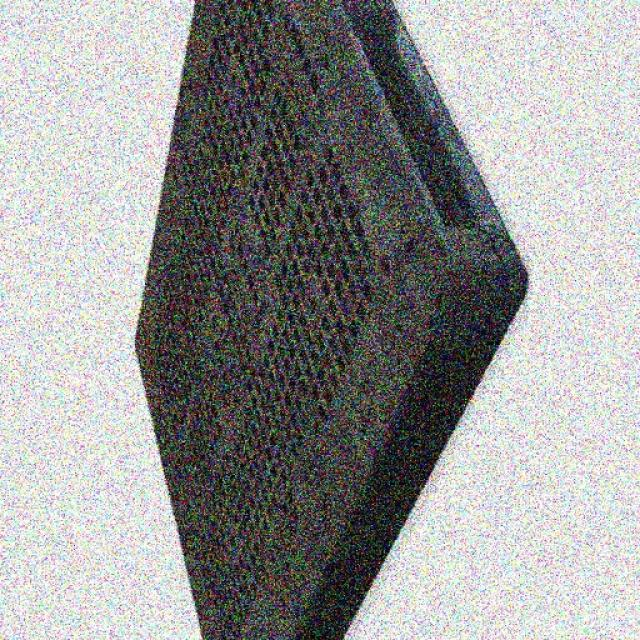non-igps: (130, 1, 531, 640)
